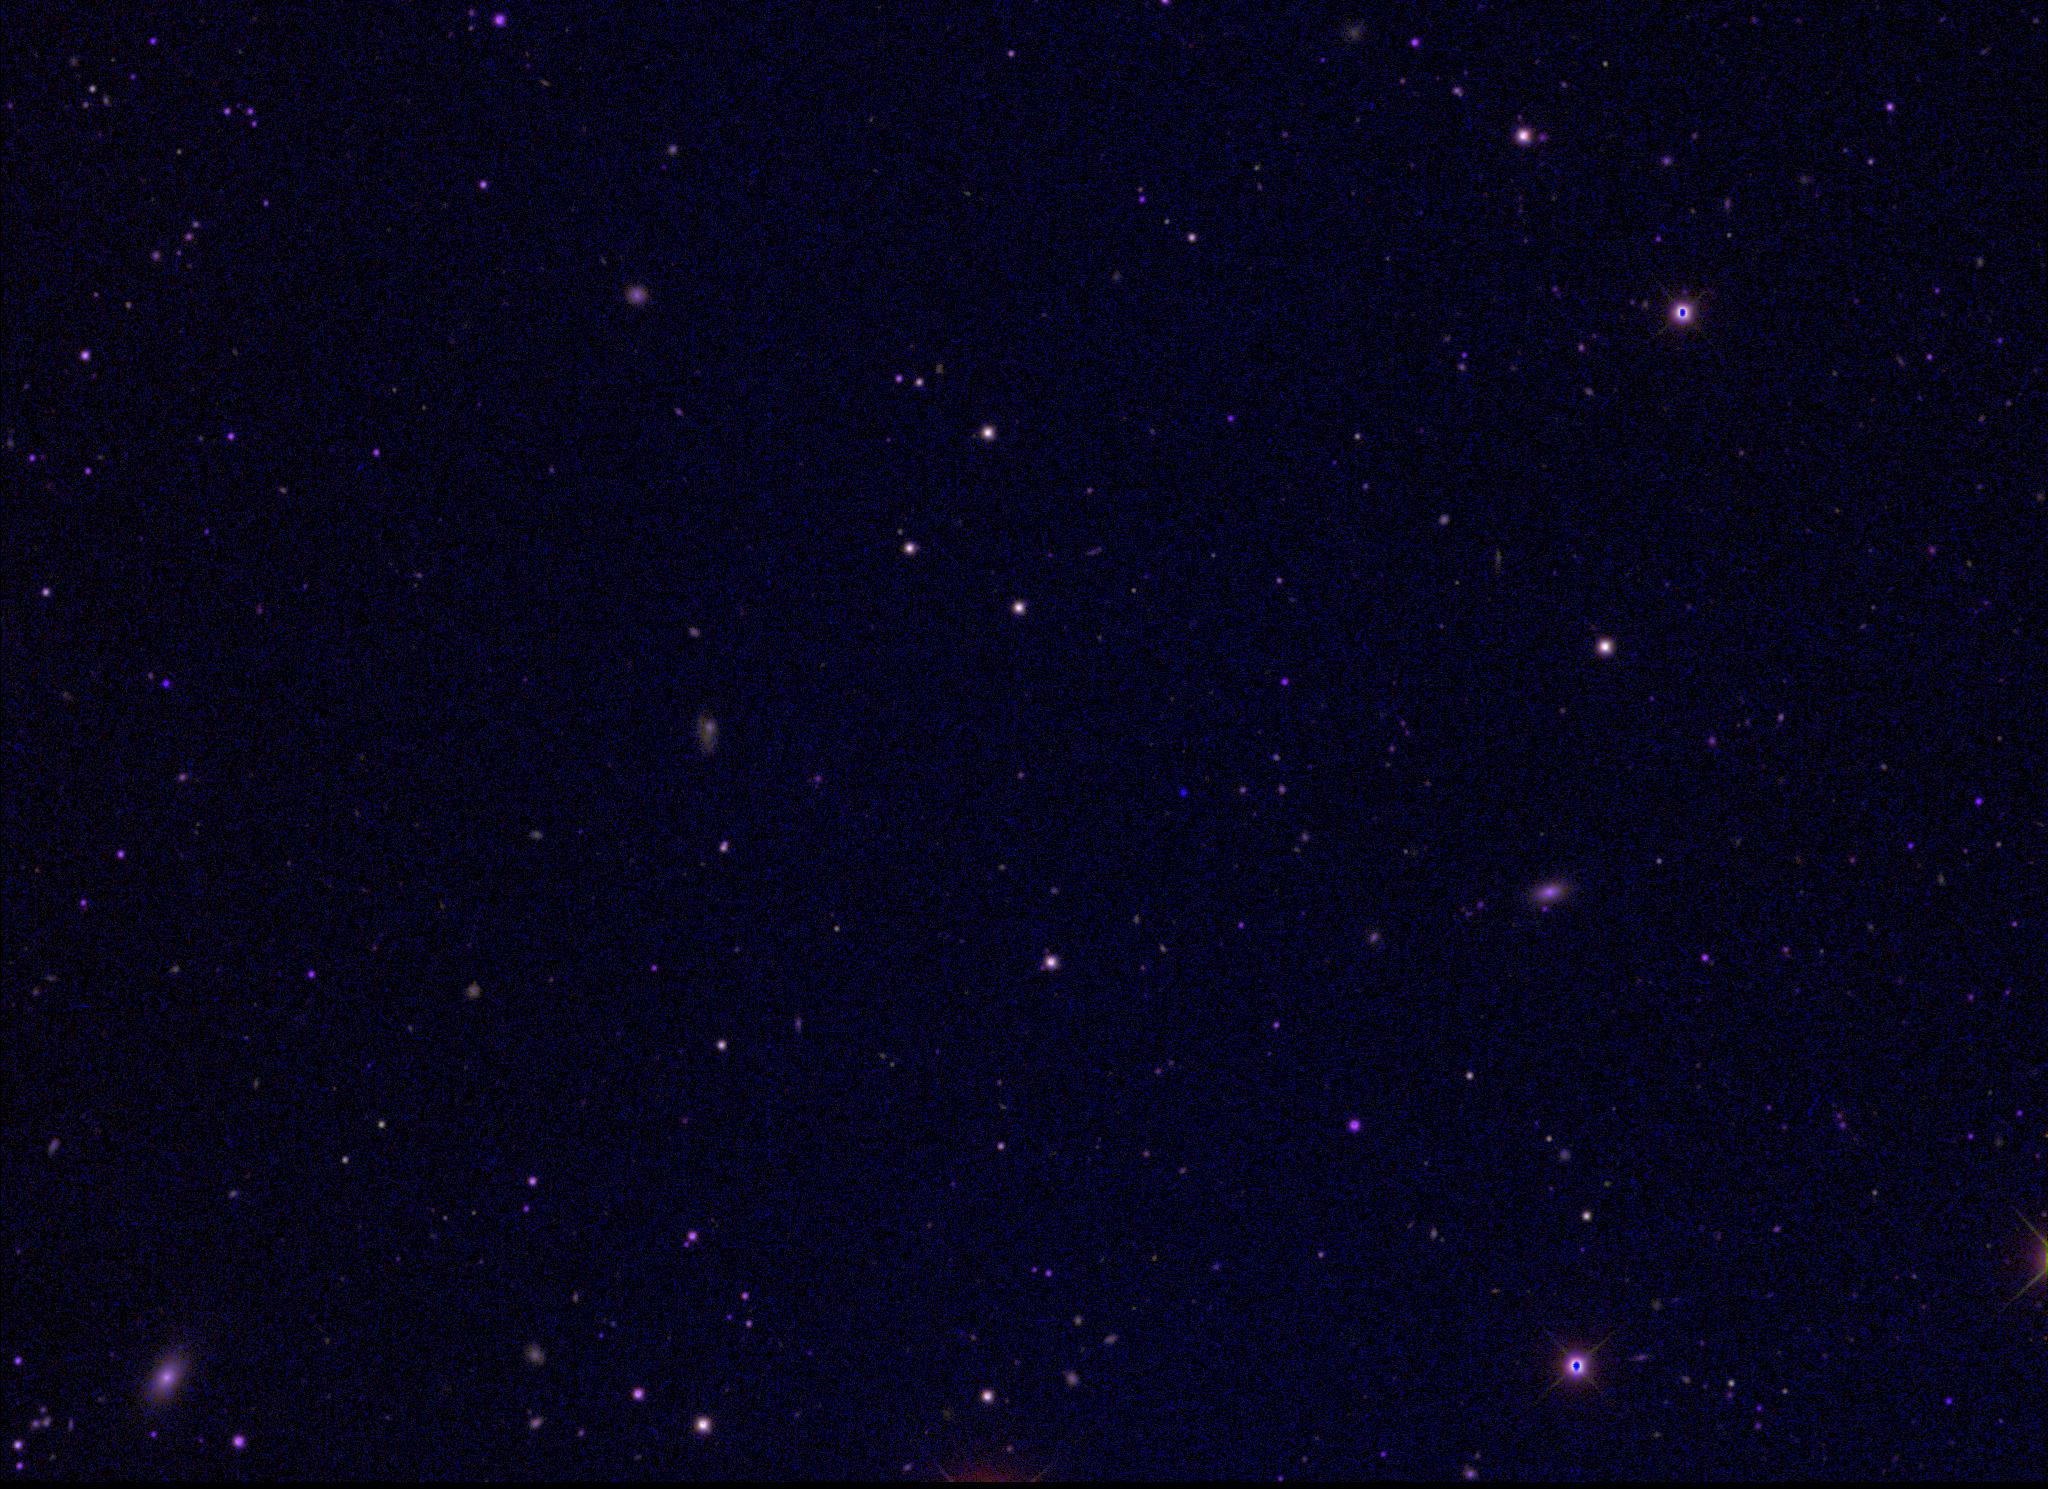L: (1177, 786, 1191, 800)
